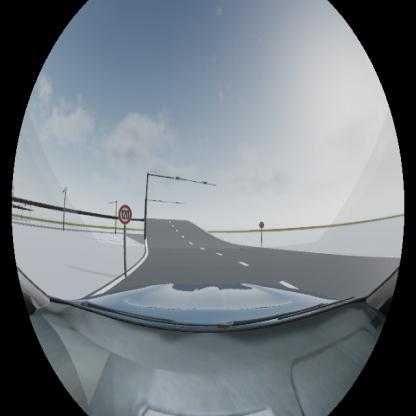Speed Limit 120: (119, 204, 132, 224)
